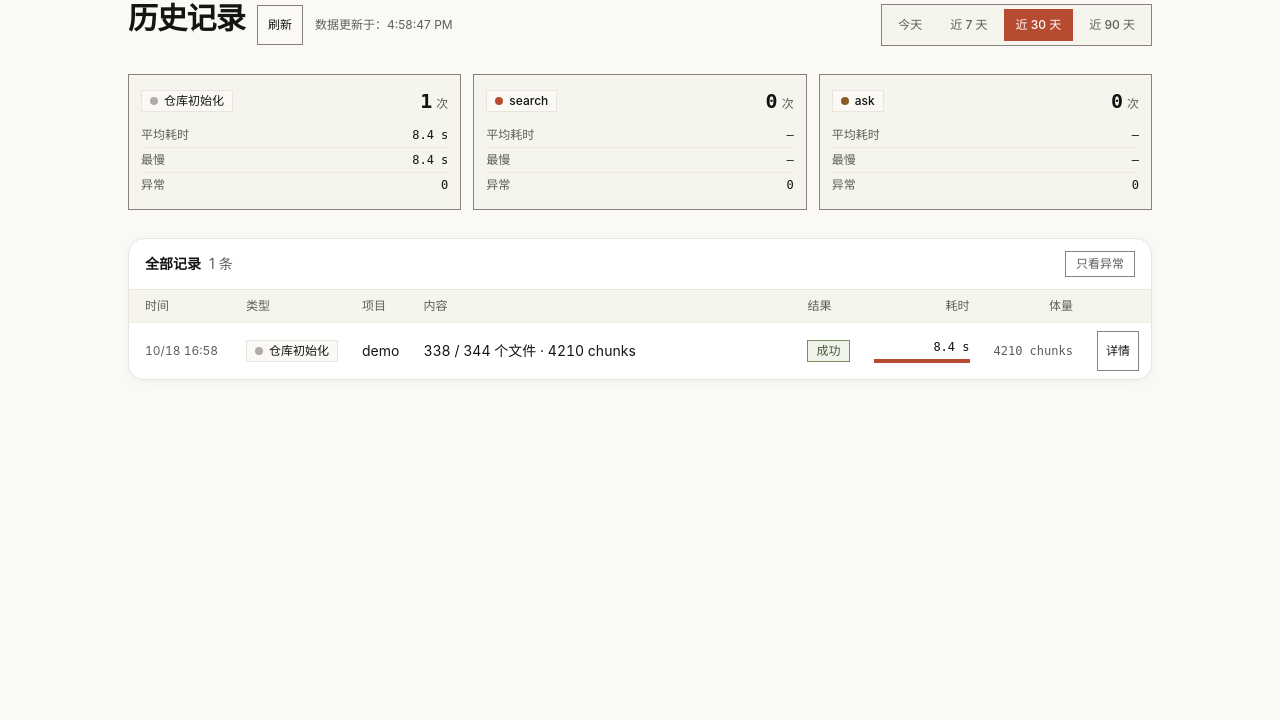
Test case: 初始化的分阶段耗时 › 有阶段数据：按顶层阶段列出毫秒与占比，嵌套阶段缩进在「解析并写入索引」下
Click the button "详情" at (1118, 351), box [1097, 331, 1139, 371]
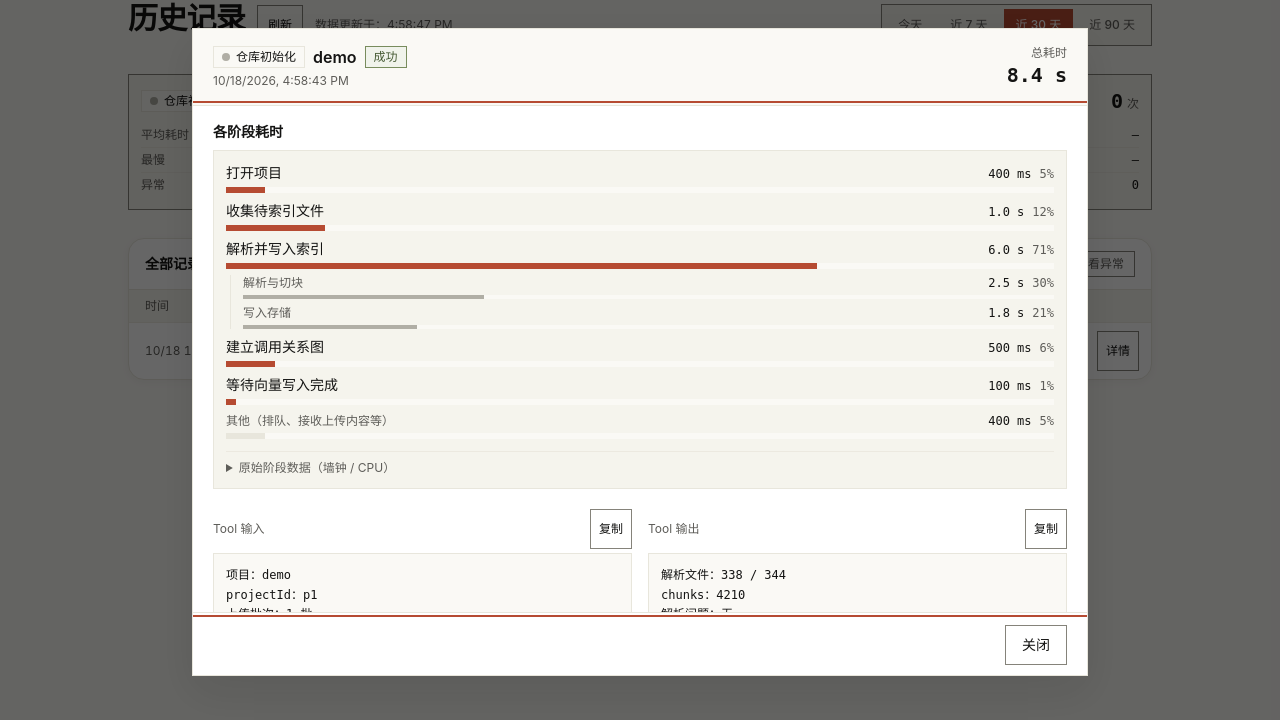
Expected: the text "打开项目" is shown, [226, 163, 282, 183]
Expected: the text "收集待索引文件" is shown, [226, 201, 324, 221]
Expected: the text "解析并写入索引" is shown, [226, 239, 324, 259]
